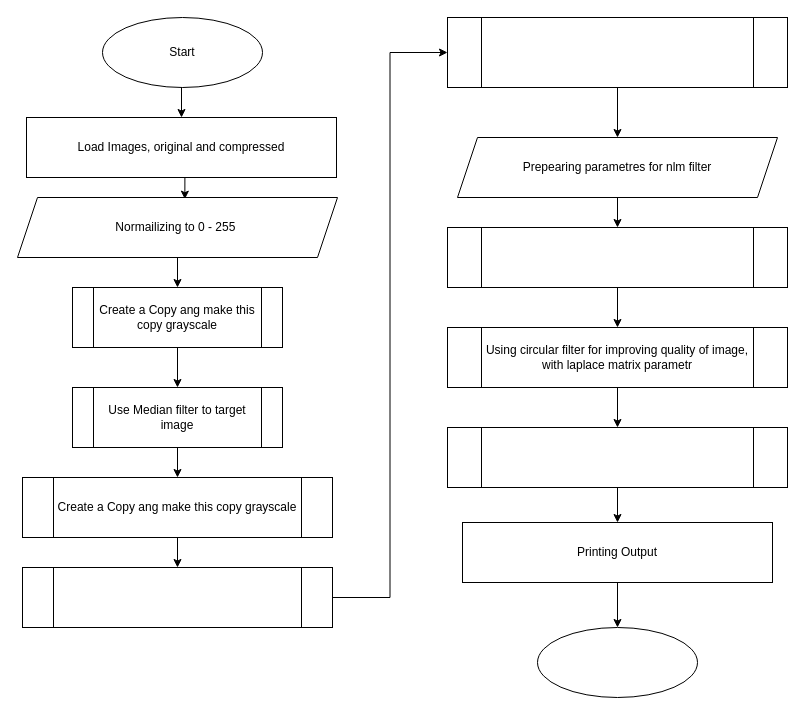
Image size: 805x715. Some labels were removed from this diagram. The shapes that lost their labels are listed below. From the top down, each one's box as (x1, y1, x2, y2) in pixels, then its label:
(446, 16, 788, 88): Crop Noise Part of image to prepearing nlm filter
(446, 226, 788, 288): Use Nlm filter for improving sharpness image
(446, 426, 788, 488): Using circular filter for improving quality of image, with other matrix parametr
(22, 566, 332, 628): Use Median filter to smoothing image
(536, 626, 698, 698): End
